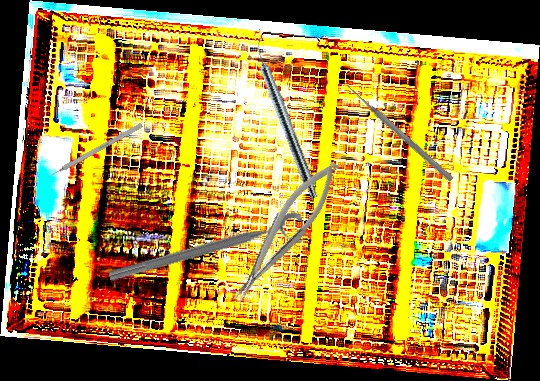Fixation Ring: (106, 209, 309, 299)
Handpiece: (248, 36, 323, 201)
Hook Surgical: (44, 122, 144, 181)
Needle Holder: (219, 153, 351, 309)
Pusher: (344, 81, 455, 184)
